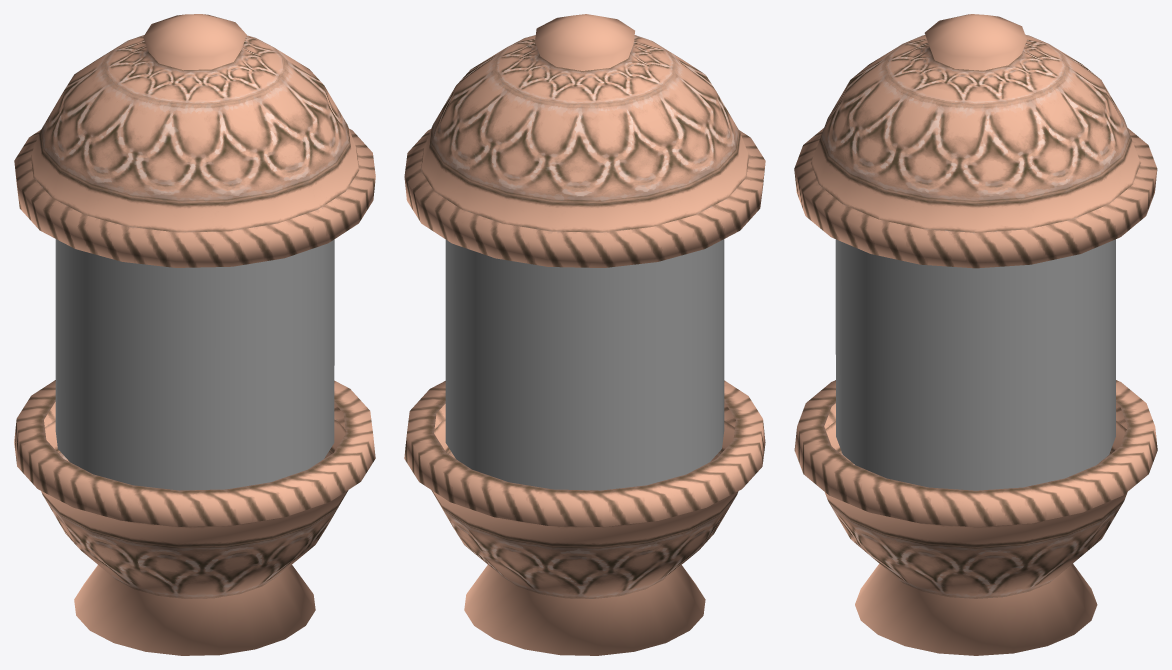
File: Lantern_Standing_LOD1.fbx
3 renders of one model, left to right at view 1: azimuth 30°, elevation 25°; view 2: azimuth 150°, elevation 25°; view 3: azimuth 270°, elevation 25°, orthographic.
Parts seen in each view (by area): view 1: lantern_2_LOD1; view 2: lantern_2_LOD1; view 3: lantern_2_LOD1.
Part boxes in pixels (<box>): lantern_2_LOD1: <box>14,14,375,655</box>; lantern_2_LOD1: <box>404,14,765,655</box>; lantern_2_LOD1: <box>794,14,1157,655</box>.
Bounding box in the file's own units: 20.25 × 36.18 × 20.27.
